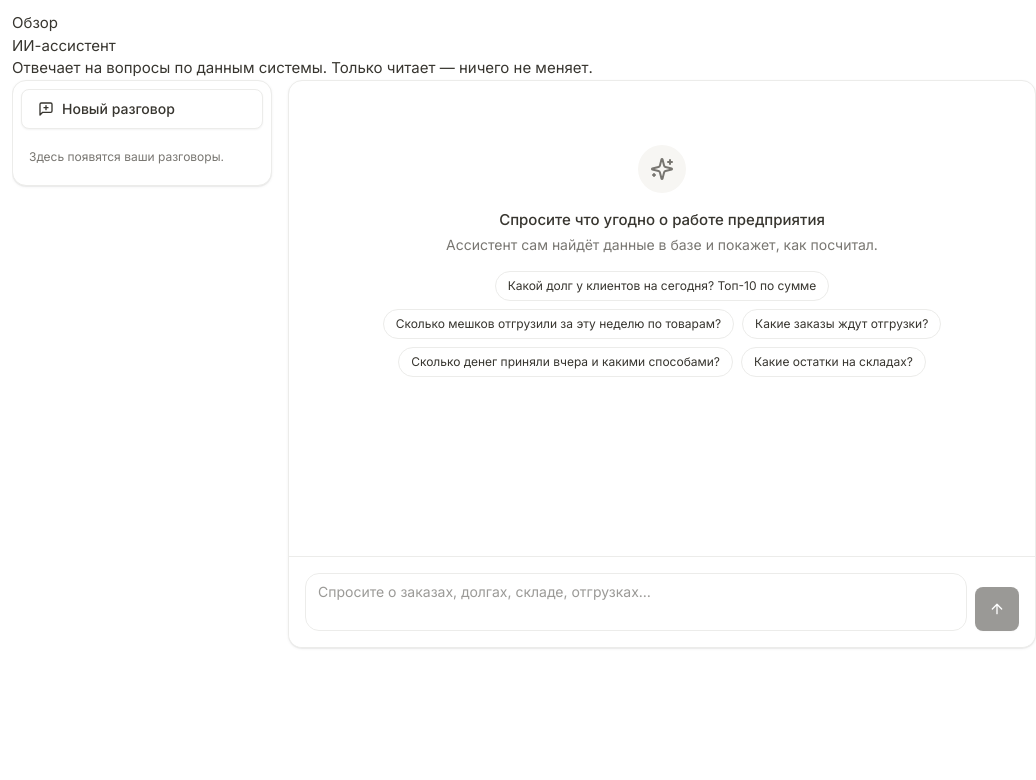
Test case: ИИ-ассистент › показывает причину, если вопрос не принят
Type "Долги?" into the text box named "Вопрос ассистенту" at (636, 602), box x1=305 y1=572 x2=967 y2=630
Then press Enter
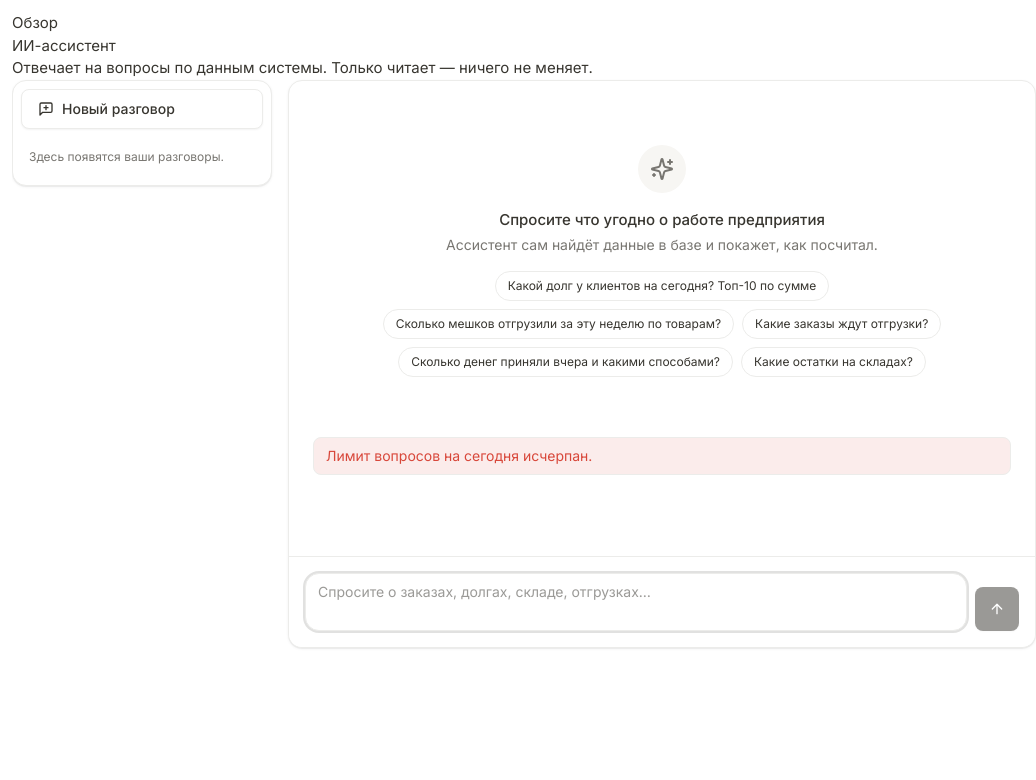
Expected: the message reads "Лимит вопросов на сегодня исчерпан.", x1=326 y1=447 x2=592 y2=464
